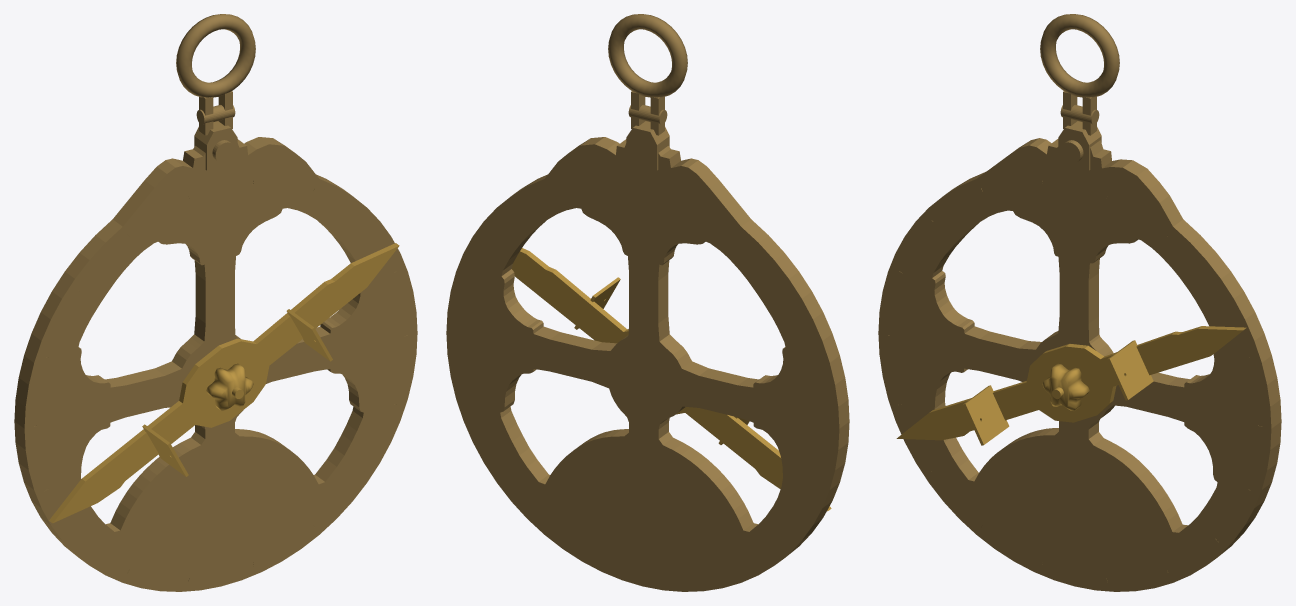
The model's file is NEW686_Astrolabe_LOD2_v001.glb.
3 renders of one model, left to right at view 1: azimuth 30°, elevation 25°; view 2: azimuth 150°, elevation 25°; view 3: azimuth 330°, elevation 25°, orthographic.
Visible parts, largest first — view 1: NAV0020_cast_frame_and_ballast, Rotating_alidade, Suspension_ring, Six_lobed_central_knob, Suspension_lug, Sight_vane_-1, Sight_vane_1; view 2: NAV0020_cast_frame_and_ballast, Rotating_alidade, Suspension_ring, Suspension_lug; view 3: NAV0020_cast_frame_and_ballast, Rotating_alidade, Suspension_ring, Sight_vane_-1, Sight_vane_1, Six_lobed_central_knob, Suspension_lug.
Boxes of the visible parts, <box> form: NAV0020_cast_frame_and_ballast: <box>14,137,417,591</box>; Rotating_alidade: <box>49,243,399,523</box>; Suspension_ring: <box>176,14,255,97</box>; Six_lobed_central_knob: <box>206,363,253,410</box>; Suspension_lug: <box>194,121,237,170</box>; Sight_vane_-1: <box>142,424,188,476</box>; Sight_vane_1: <box>286,309,332,361</box>; NAV0020_cast_frame_and_ballast: <box>446,137,849,591</box>; Rotating_alidade: <box>511,248,831,511</box>; Suspension_ring: <box>608,14,687,97</box>; Suspension_lug: <box>626,121,669,170</box>; NAV0020_cast_frame_and_ballast: <box>878,138,1281,591</box>; Rotating_alidade: <box>896,326,1246,440</box>; Suspension_ring: <box>1040,14,1119,97</box>; Sight_vane_-1: <box>963,385,1009,445</box>; Sight_vane_1: <box>1107,340,1153,400</box>; Six_lobed_central_knob: <box>1042,363,1089,410</box>; Suspension_lug: <box>1058,121,1101,170</box>.
Bounding box in the file's own units: 0.178 × 0.2457 × 0.032.
